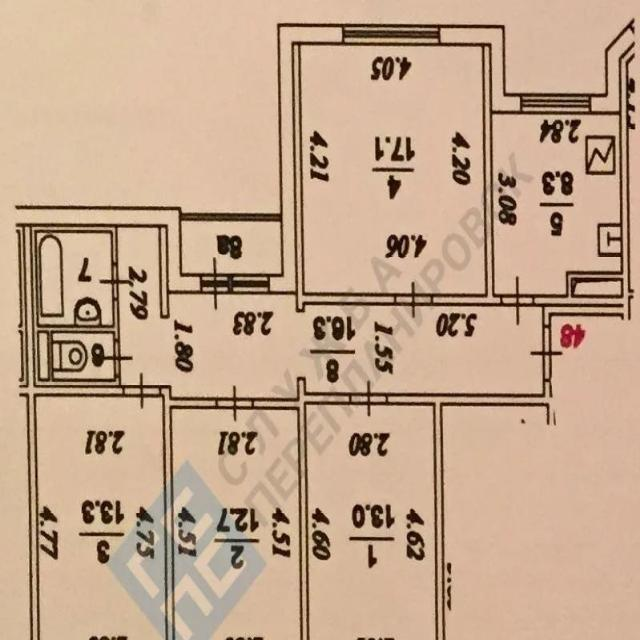Bathrooms: (37, 233, 112, 324), (53, 334, 114, 378)
Corridors: (118, 228, 543, 396), (183, 223, 281, 272)
Doors: (530, 325, 564, 381), (500, 273, 533, 329), (200, 254, 230, 313), (350, 377, 387, 420), (123, 369, 160, 412), (395, 279, 433, 320), (216, 384, 254, 423), (100, 339, 138, 377), (98, 263, 132, 300)
LBwalls: (270, 23, 342, 295), (14, 205, 201, 294), (440, 24, 522, 114), (591, 17, 636, 114)
Offices: (301, 44, 484, 293), (36, 397, 165, 639), (307, 404, 434, 640), (173, 410, 300, 639), (493, 114, 622, 296)
Walls: (14, 225, 125, 640), (387, 380, 555, 640), (532, 43, 636, 326), (293, 43, 395, 313), (253, 376, 350, 640), (433, 45, 502, 307), (159, 383, 217, 640), (158, 224, 169, 320), (181, 213, 282, 221)
Windows: (342, 23, 441, 46), (520, 92, 591, 114), (230, 272, 269, 293)
